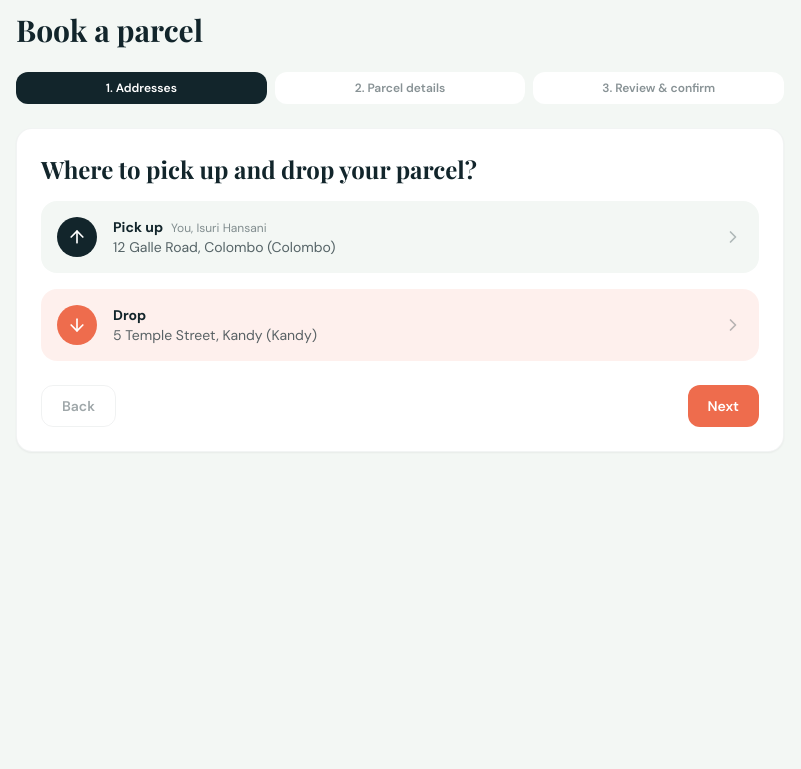
Test: BookParcelPage details step › has an item type drop-down with all the types
Click the button "Next" at (723, 406), box [688, 385, 759, 427]
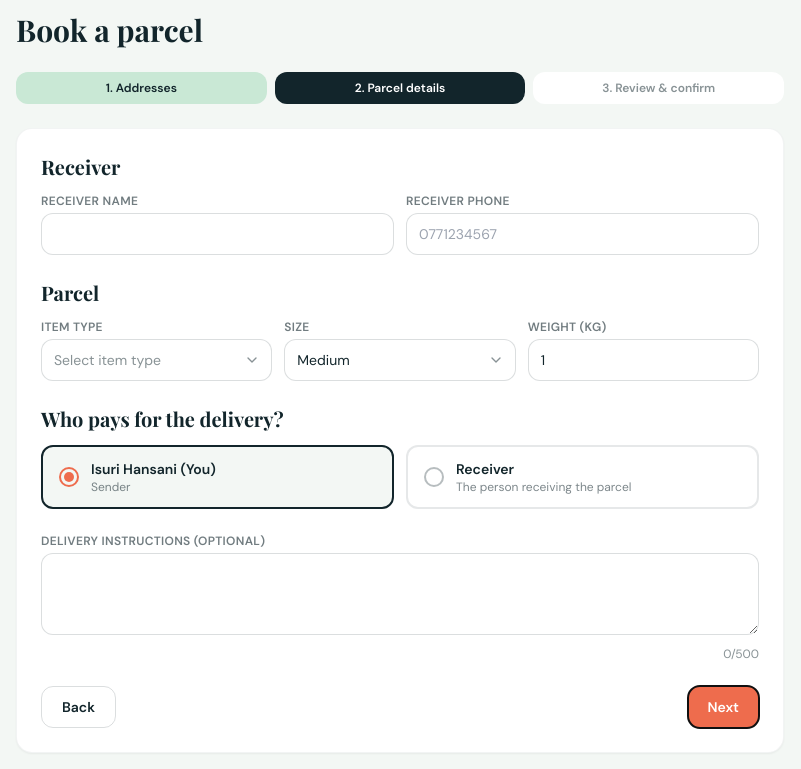
Result: the field labelled "Receiver name" is shown at [41, 213, 394, 255]
